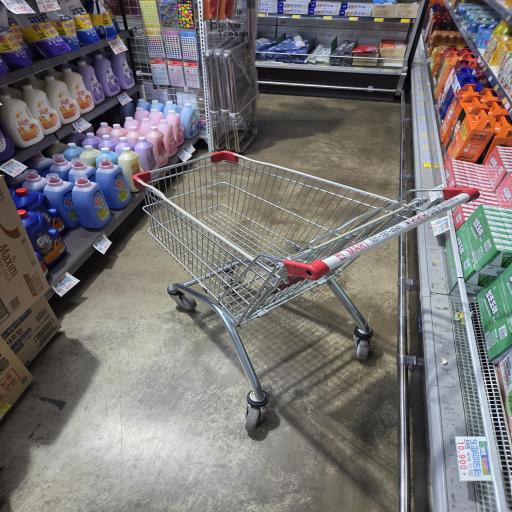empty_cart: (126, 143, 483, 440)
